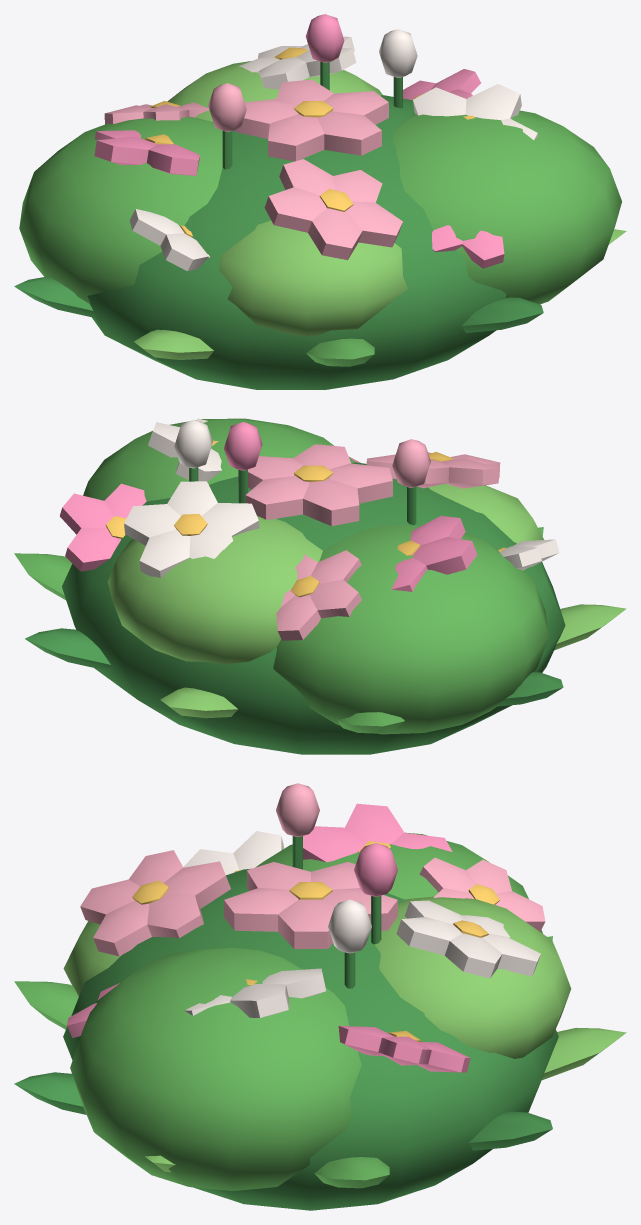
Rendered from flower_clump.glb.
3 renders of one model, top to bottom at view 1: azimuth 30°, elevation 25°; view 2: azimuth 150°, elevation 25°; view 3: azimuth 270°, elevation 25°, orthographic. The views are drawn at different scales.
Parts seen in each view (by area): view 1: flower_clump; view 2: flower_clump; view 3: flower_clump.
Boxes of the visible parts, bbox=[...] form: flower_clump: bbox=[14, 14, 626, 389]; flower_clump: bbox=[14, 418, 626, 754]; flower_clump: bbox=[14, 783, 626, 1210].
Size of the model in its own units: 1.07 by 0.5767 by 0.9417.
